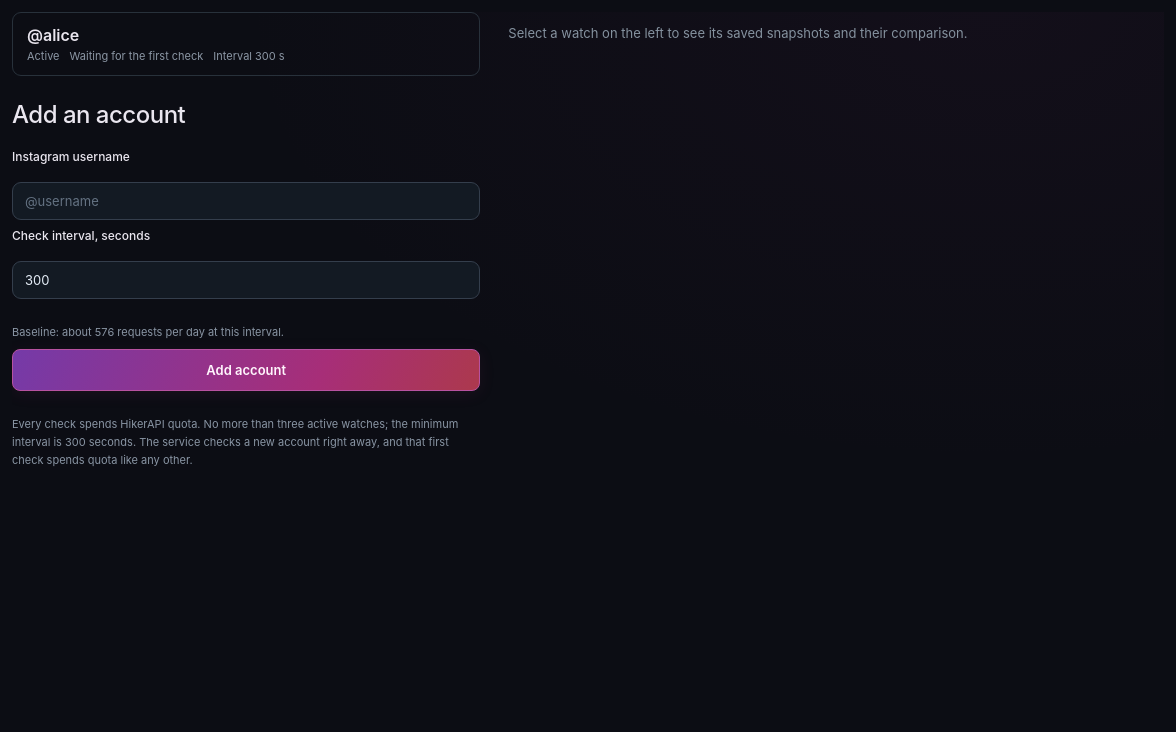
Test: watches view › re-reads the saved history every five seconds and stops once the first snapshot is there
Click the option "@alice Active Waiting for the first check Interval 300 s" at [53, 35], box [12, 12, 480, 76]
Wait 30000 ms
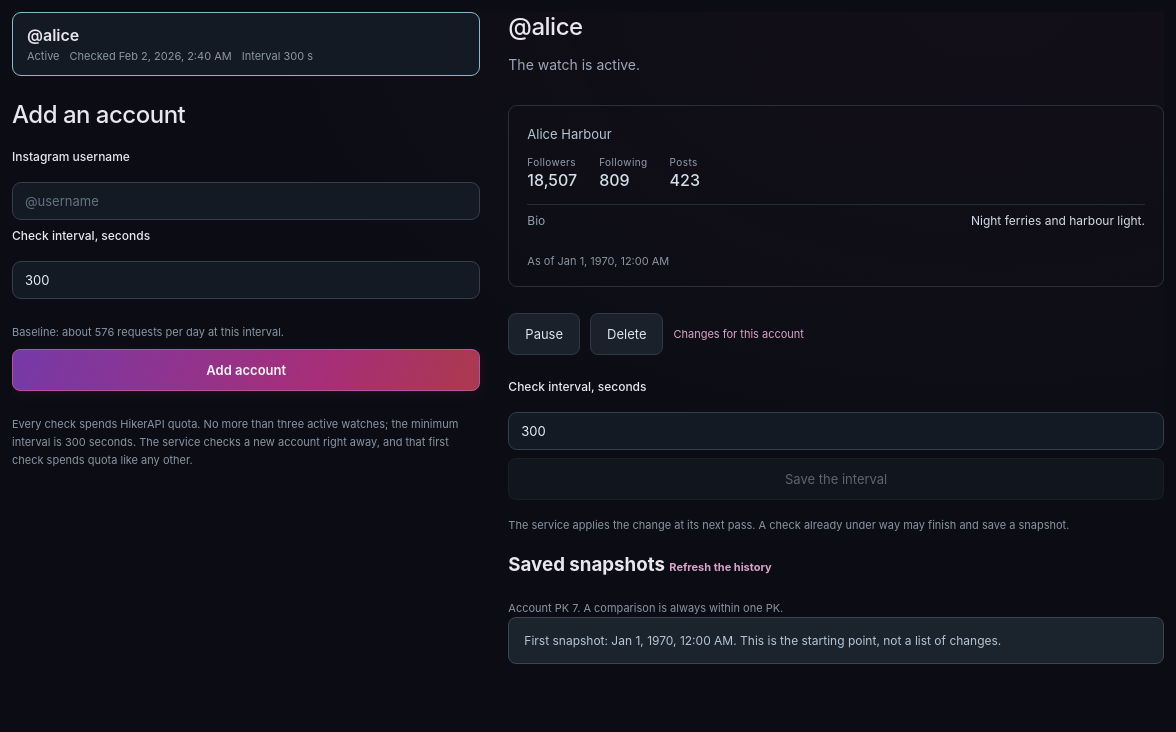
Result: the text "Alice Harbour" is shown at [527, 126, 612, 142]
Result: the text "Waiting for the first check" is gone
